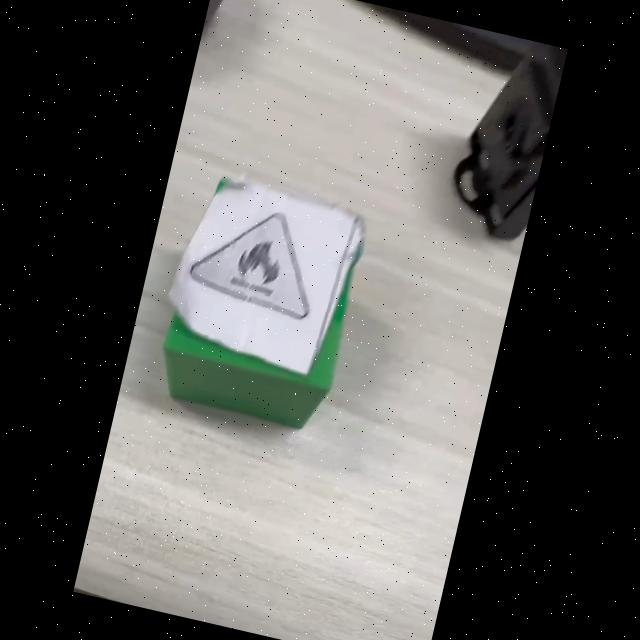Fire: (190, 213, 309, 319)
